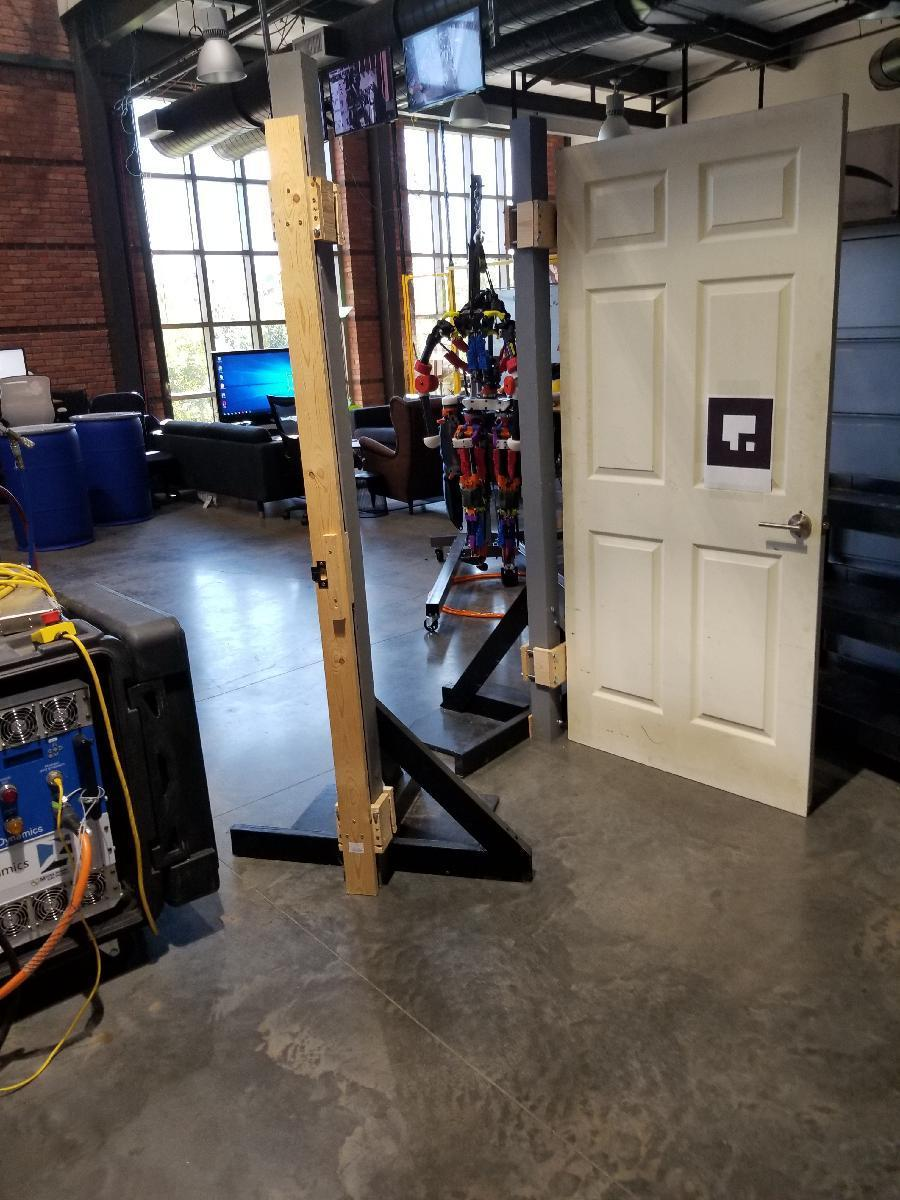door: (554, 128, 832, 777)
handle: (755, 510, 815, 540)
